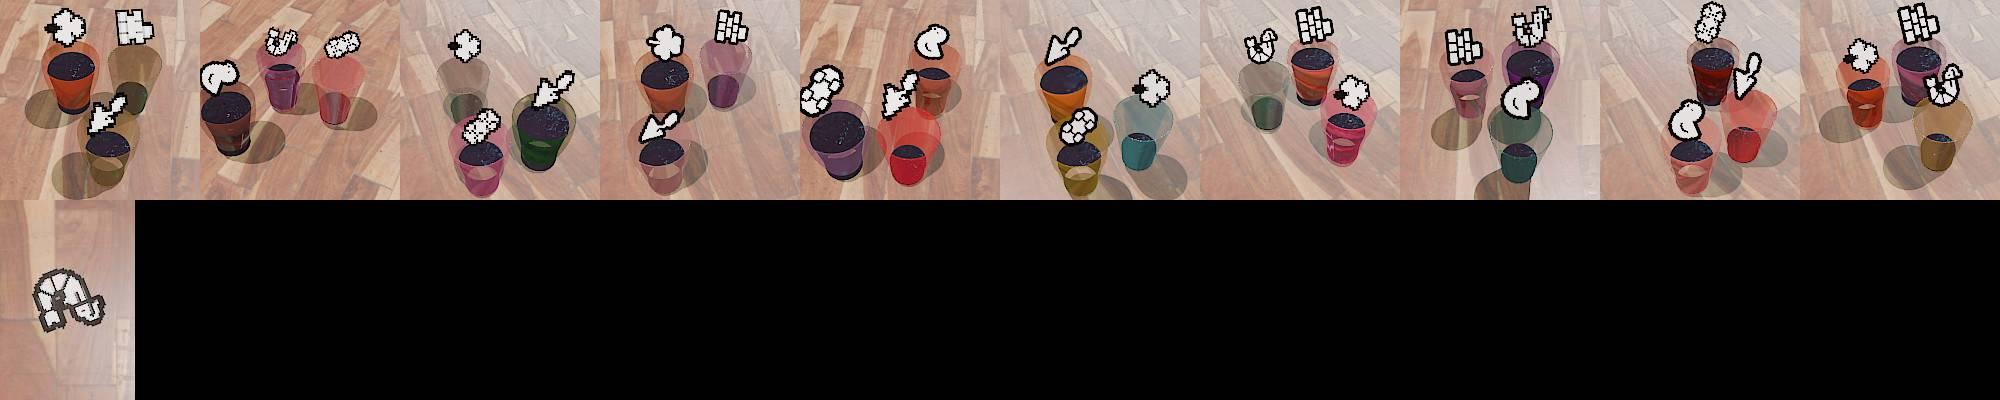icon: (31, 266, 108, 334), (800, 61, 847, 116), (880, 69, 922, 122), (85, 89, 130, 135), (1897, 3, 1941, 45), (532, 68, 577, 108), (45, 8, 88, 48), (1130, 68, 1172, 108), (1330, 71, 1372, 112), (1500, 78, 1541, 120), (1668, 97, 1708, 140), (1513, 6, 1552, 50), (460, 107, 503, 146), (1059, 104, 1098, 145), (1295, 5, 1334, 46), (1444, 27, 1483, 66), (1045, 24, 1083, 65), (115, 8, 156, 46), (1732, 50, 1763, 101), (1925, 64, 1962, 106), (645, 23, 685, 61), (199, 59, 240, 96), (1693, 1, 1727, 45), (913, 22, 952, 60), (638, 108, 681, 141), (713, 8, 749, 45), (1244, 28, 1279, 65), (446, 28, 482, 64), (1844, 37, 1879, 71), (323, 31, 361, 60), (265, 25, 298, 57)
